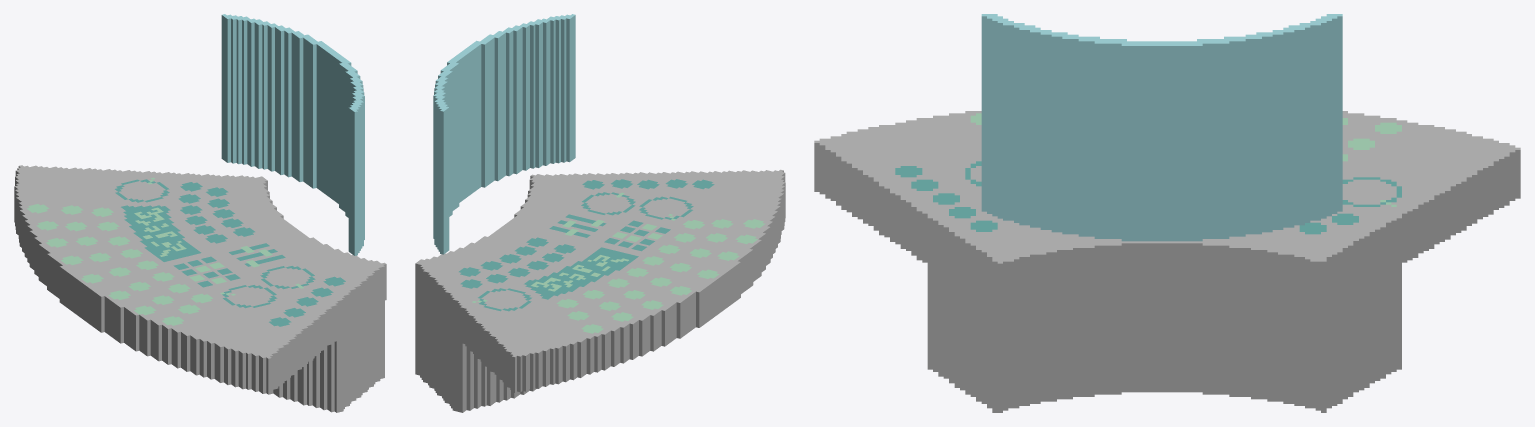
The model's file is Computer.FBX.
The picture shows the model from 3 angles, left to right: view 1: azimuth 30°, elevation 25°; view 2: azimuth 150°, elevation 25°; view 3: azimuth 270°, elevation 25°; orthographic projection. The views are drawn at different scales.
Parts seen in each view (by area): view 1: computer; view 2: computer; view 3: computer.
Boxes of the visible parts, bbox=[...] form: computer: bbox=[14, 14, 386, 412]; computer: bbox=[415, 14, 785, 412]; computer: bbox=[814, 14, 1520, 412].
Size of the model in its own units: 7.5 by 7.7 by 13.1.
1 material, 1 textured.
